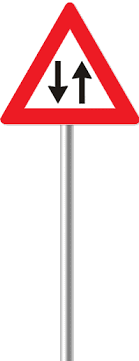1.19.1: (2, 3, 139, 125)
